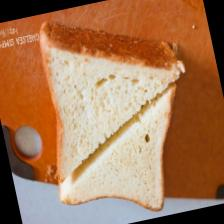bread: (22, 0, 211, 224)
